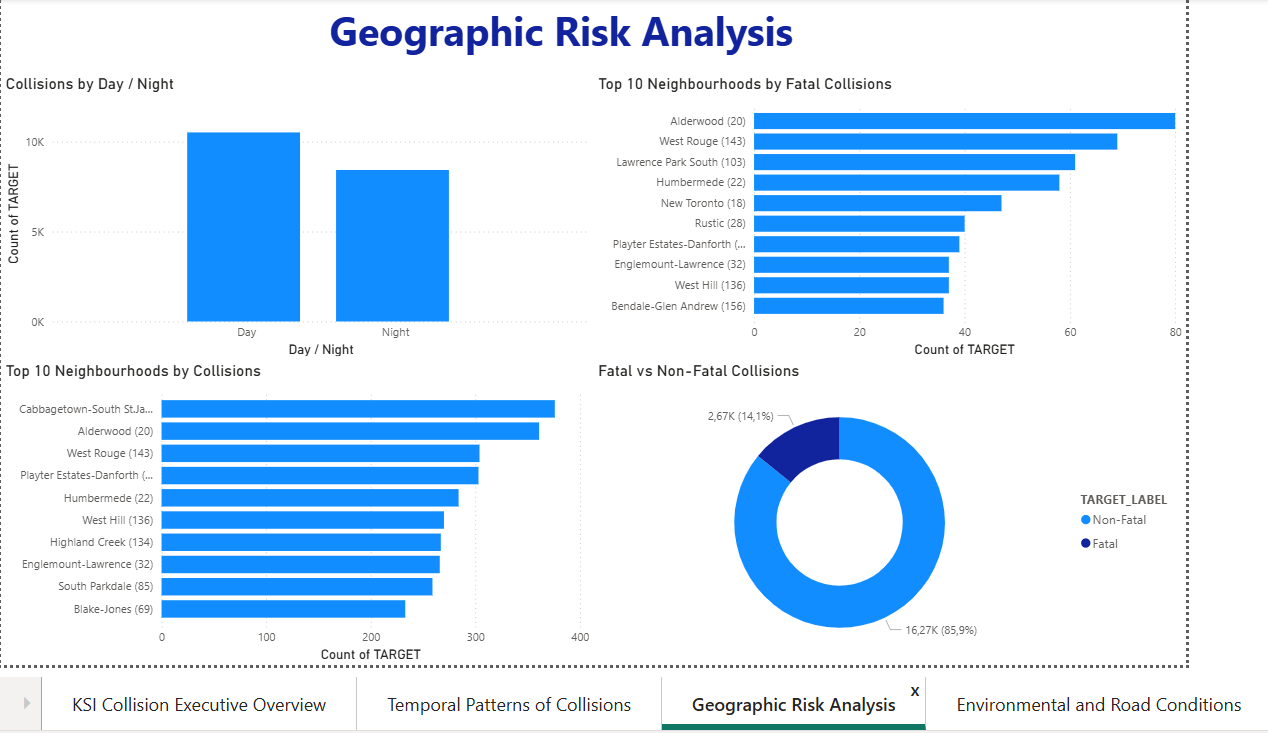

What the dashboard file says about the page in this screenshot:
{"tool":"powerbi","page":{"name":"Geographic Risk Analysis","canvas":[1280,720],"ordinal":2},"visuals":[{"type":"textbox","box":[335.2,0,539.2,82.6],"z":0},{"type":"clusteredBarChart","title":"Top 10 Neighbourhoods by Collisions","fields":{"Y":["CountNonNull(KSI_PowerBI_Clean.TARGET)"],"Category":["KSI_PowerBI_Clean.HOOD_LABEL"]},"box":[0,391.2,640.6,328.8],"z":1000},{"type":"donutChart","title":"Fatal vs Non-Fatal Collisions","fields":{"Category":["KSI_PowerBI_Clean.TARGET_LABEL"],"Y":["CountNonNull(KSI_PowerBI_Clean.TARGET)"]},"box":[657.6,391.2,621.7,328.8],"z":2000},{"type":"columnChart","title":"Collisions by Day / Night","fields":{"Category":["KSI_PowerBI_Clean.Day / Night"],"Y":["CountNonNull(KSI_PowerBI_Clean.TARGET)"]},"box":[0,83.2,640.6,275.9],"z":3000},{"type":"columnChart","title":"Top 10 Neighbourhoods by Fatal Collisions","fields":{"Category":["KSI_PowerBI_Clean.HOOD_LABEL"],"Y":["CountNonNull(KSI_PowerBI_Clean.TARGET)"]},"box":[657.6,83.2,621.7,289.1],"z":4000}]}

Visuals, with their boxes in screenshot pixels (x1, y1, x2, y2), scaled from the page's 1280x720 canvas onto the 1268x733 screenshot:
textbox: {"left": 332, "top": 0, "right": 866, "bottom": 84}
"Top 10 Neighbourhoods by Collisions" clusteredBarChart: {"left": 0, "top": 398, "right": 635, "bottom": 732}
"Fatal vs Non-Fatal Collisions" donutChart: {"left": 651, "top": 398, "right": 1267, "bottom": 732}
"Collisions by Day / Night" columnChart: {"left": 0, "top": 85, "right": 635, "bottom": 366}
"Top 10 Neighbourhoods by Fatal Collisions" columnChart: {"left": 651, "top": 85, "right": 1267, "bottom": 379}
